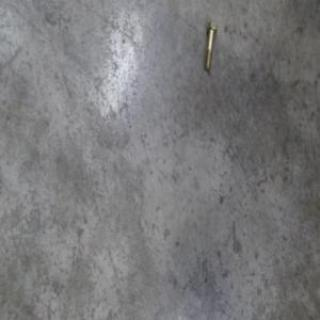Bolttrack_idkeyframe: (202, 20, 218, 71)
